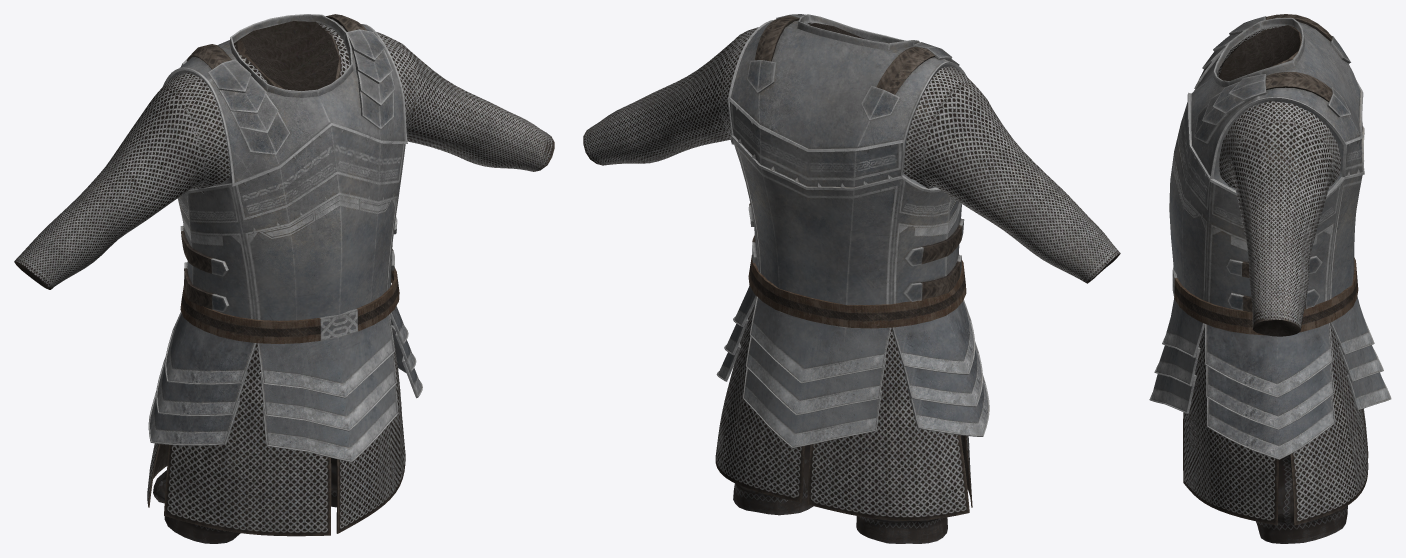
The model's file is sk_dwarf_erebor_chest_plate_heavy_c.fbx.
3 renders of one model, left to right at view 1: azimuth 30°, elevation 25°; view 2: azimuth 150°, elevation 25°; view 3: azimuth 270°, elevation 25°, orthographic. The views are drawn at different scales.
Visible parts, largest first — view 1: sk_dwarf_erebor_chest_plate_heavy_c.2, sk_dwarf_erebor_chest_plate_heavy_c.1, sk_dwarf_erebor_chest_plate_heavy_c.0; view 2: sk_dwarf_erebor_chest_plate_heavy_c.2, sk_dwarf_erebor_chest_plate_heavy_c.1, sk_dwarf_erebor_chest_plate_heavy_c.0; view 3: sk_dwarf_erebor_chest_plate_heavy_c.2, sk_dwarf_erebor_chest_plate_heavy_c.1, sk_dwarf_erebor_chest_plate_heavy_c.0.
Boxes of the visible parts, x1,y1,x2,y2 form: sk_dwarf_erebor_chest_plate_heavy_c.2: [148, 14, 422, 462]; sk_dwarf_erebor_chest_plate_heavy_c.1: [14, 21, 554, 536]; sk_dwarf_erebor_chest_plate_heavy_c.0: [153, 458, 336, 543]; sk_dwarf_erebor_chest_plate_heavy_c.2: [716, 14, 989, 448]; sk_dwarf_erebor_chest_plate_heavy_c.1: [583, 23, 1120, 520]; sk_dwarf_erebor_chest_plate_heavy_c.0: [733, 435, 962, 543]; sk_dwarf_erebor_chest_plate_heavy_c.2: [1149, 14, 1391, 459]; sk_dwarf_erebor_chest_plate_heavy_c.1: [1172, 25, 1368, 525]; sk_dwarf_erebor_chest_plate_heavy_c.0: [1256, 454, 1347, 543].
Size of the model in its own units: 1.16 by 0.4861 by 1.03.
Materials: 3 (3 with a texture image).
